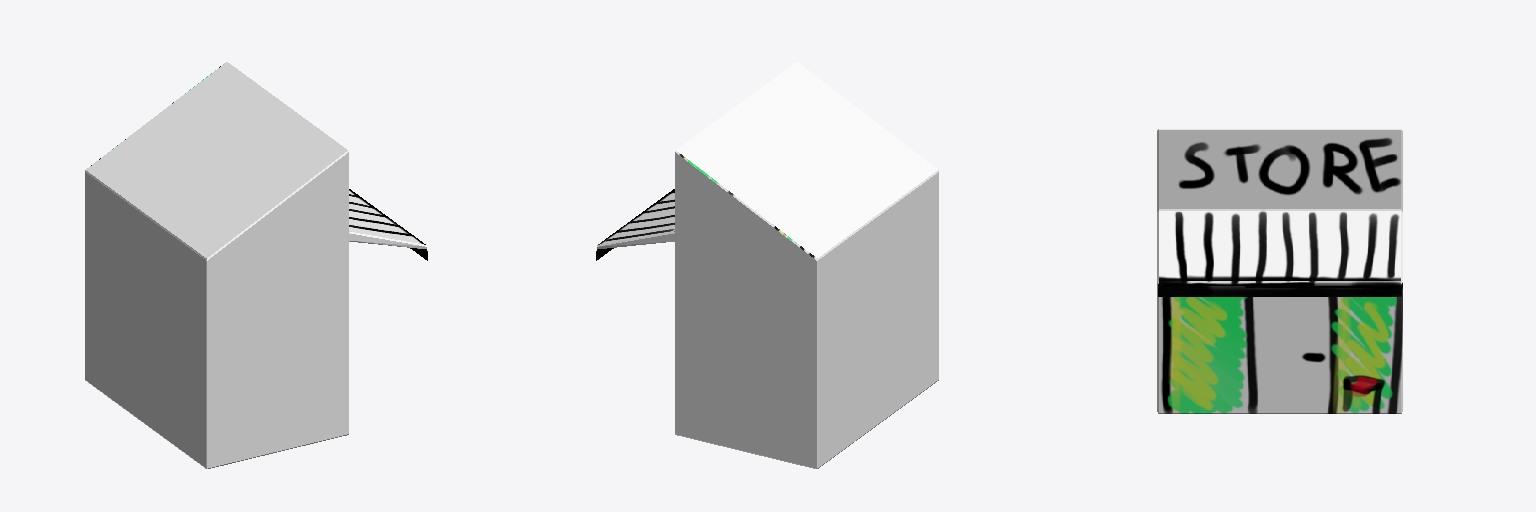
The picture shows the model from 3 angles: view 1: azimuth 30°, elevation 25°; view 2: azimuth 150°, elevation 25°; view 3: azimuth 270°, elevation 25°; orthographic projection.
Visible parts, largest first — view 1: Cube; view 2: Cube; view 3: Cube.
Part boxes in pixels (x1,y1,x2,y2): Cube: (85, 62, 427, 468); Cube: (596, 62, 938, 468); Cube: (1157, 129, 1402, 413).
Bounding box in the file's own units: 8.53 × 10.51 × 8.19.
Materials: 1 (1 with a texture image).